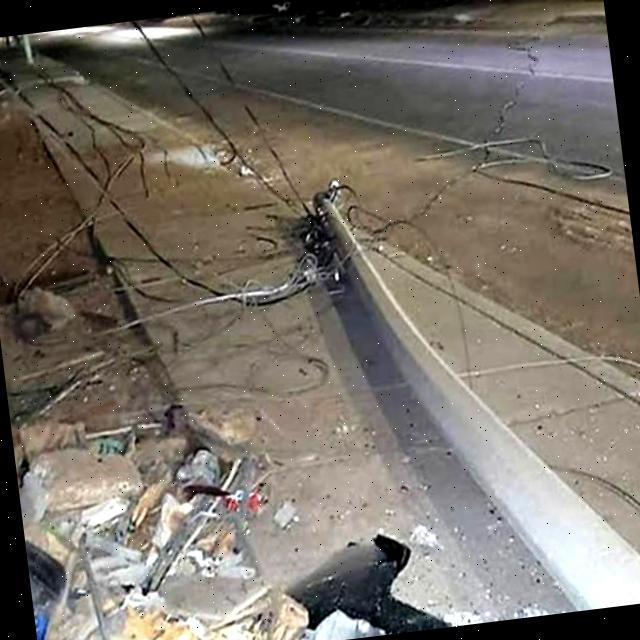Broken Pole: (293, 143, 640, 639)
